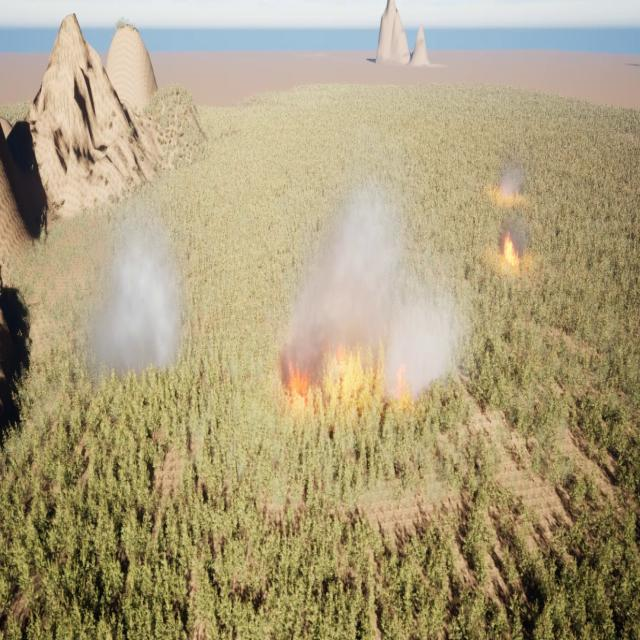fire: (286, 356, 316, 394), (335, 335, 360, 370), (502, 230, 522, 267), (395, 365, 411, 401)
smoke: (272, 180, 469, 402), (78, 207, 190, 373), (499, 216, 527, 263), (498, 163, 523, 195)
